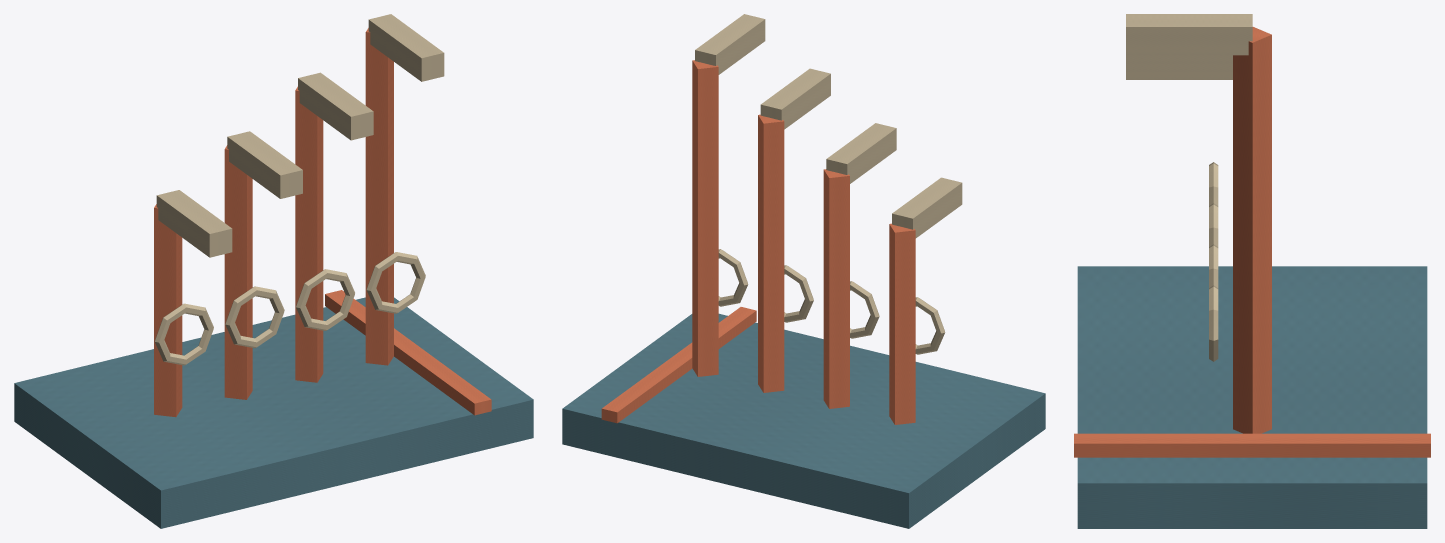
File: atlas100-s050-a03.lod2.glb
The picture shows the model from 3 angles, left to right: view 1: azimuth 30°, elevation 25°; view 2: azimuth 150°, elevation 25°; view 3: azimuth 270°, elevation 25°; orthographic projection. The views are drawn at different scales.
Parts seen in each view (by area): view 1: atlas100-s050-a03:part-000, atlas100-s050-a03:part-012, atlas100-s050-a03:part-009, atlas100-s050-a03:part-006, atlas100-s050-a03:part-003, atlas100-s050-a03:part-002, atlas100-s050-a03:part-005, atlas100-s050-a03:part-014, atlas100-s050-a03:part-011, atlas100-s050-a03:part-008, atlas100-s050-a03:part-013, atlas100-s050-a03:part-007 (+2 smaller); view 2: atlas100-s050-a03:part-000, atlas100-s050-a03:part-012, atlas100-s050-a03:part-009, atlas100-s050-a03:part-006, atlas100-s050-a03:part-003, atlas100-s050-a03:part-002, atlas100-s050-a03:part-005, atlas100-s050-a03:part-014, atlas100-s050-a03:part-011, atlas100-s050-a03:part-008, atlas100-s050-a03:part-013, atlas100-s050-a03:part-004 (+2 smaller); view 3: atlas100-s050-a03:part-000, atlas100-s050-a03:part-012, atlas100-s050-a03:part-002, atlas100-s050-a03:part-014, atlas100-s050-a03:part-008, atlas100-s050-a03:part-011, atlas100-s050-a03:part-005, atlas100-s050-a03:part-013.
Part boxes in pixels (box(x1,y1,x2,y2)): atlas100-s050-a03:part-000: box(14, 297, 533, 528); atlas100-s050-a03:part-012: box(365, 28, 393, 365); atlas100-s050-a03:part-009: box(295, 86, 323, 382); atlas100-s050-a03:part-006: box(224, 145, 252, 399); atlas100-s050-a03:part-003: box(154, 204, 182, 417); atlas100-s050-a03:part-002: box(325, 290, 491, 415); atlas100-s050-a03:part-005: box(156, 190, 232, 257); atlas100-s050-a03:part-014: box(368, 14, 444, 81); atlas100-s050-a03:part-011: box(298, 72, 373, 140); atlas100-s050-a03:part-008: box(227, 131, 302, 198); atlas100-s050-a03:part-013: box(366, 252, 425, 313); atlas100-s050-a03:part-007: box(225, 286, 284, 348); atlas100-s050-a03:part-000: box(562, 313, 1045, 528); atlas100-s050-a03:part-012: box(692, 60, 718, 376); atlas100-s050-a03:part-009: box(758, 114, 784, 392); atlas100-s050-a03:part-006: box(823, 169, 849, 408); atlas100-s050-a03:part-003: box(889, 223, 915, 424); atlas100-s050-a03:part-002: box(601, 307, 756, 423); atlas100-s050-a03:part-005: box(892, 177, 962, 238); atlas100-s050-a03:part-014: box(695, 14, 765, 74); atlas100-s050-a03:part-011: box(760, 68, 830, 129); atlas100-s050-a03:part-008: box(826, 123, 896, 183); atlas100-s050-a03:part-013: box(718, 249, 748, 306); atlas100-s050-a03:part-004: box(915, 297, 945, 354); atlas100-s050-a03:part-000: box(1077, 266, 1427, 528); atlas100-s050-a03:part-012: box(1233, 27, 1271, 433); atlas100-s050-a03:part-002: box(1074, 433, 1430, 457); atlas100-s050-a03:part-014: box(1126, 14, 1252, 55); atlas100-s050-a03:part-008: box(1126, 63, 1232, 71); atlas100-s050-a03:part-011: box(1126, 55, 1232, 63); atlas100-s050-a03:part-005: box(1126, 72, 1232, 79); atlas100-s050-a03:part-013: box(1209, 285, 1218, 361).
Bounding box in the file's own units: 2.64 × 2.62 × 1.84.
Materials: 3 (3 with a texture image).
